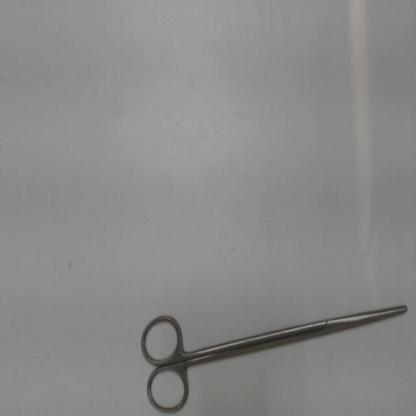9 Metzenbaum Scissors: (137, 300, 413, 414)
